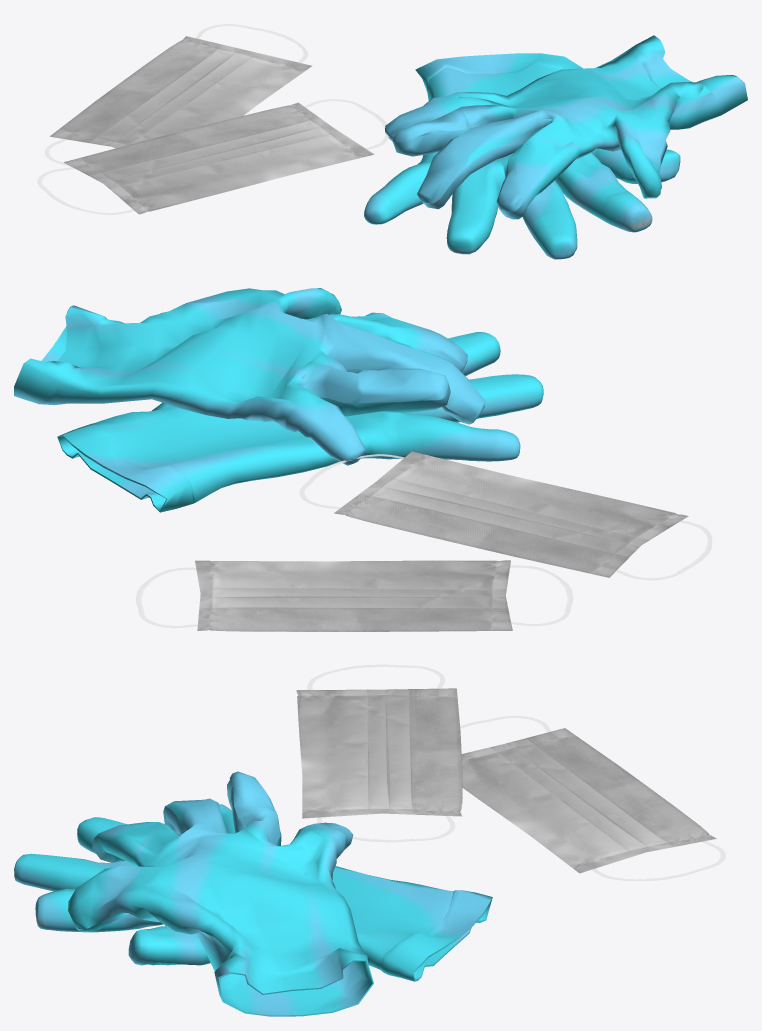
Rendered from ppe.gltf.
3 renders of one model, top to bottom at view 1: azimuth 30°, elevation 25°; view 2: azimuth 150°, elevation 25°; view 3: azimuth 270°, elevation 25°, orthographic. The views are drawn at different scales.
Parts seen in each view (by area): view 1: Gloves2, MedicalMask1:pmedmask, MedicalMask1:pmedmask_MedicalMask1:pmedm_0.001; view 2: Gloves2, MedicalMask1:pmedmask_MedicalMask1:pmedm_0.001, MedicalMask1:pmedmask; view 3: Gloves2, MedicalMask1:pmedmask, MedicalMask1:pmedmask_MedicalMask1:pmedm_0.001.
Part boxes in pixels (bbox=[...]): Gloves2: bbox=[364, 35, 747, 259]; MedicalMask1:pmedmask: bbox=[64, 102, 374, 214]; MedicalMask1:pmedmask_MedicalMask1:pmedm_0.001: bbox=[50, 36, 311, 148]; Gloves2: bbox=[14, 288, 543, 512]; MedicalMask1:pmedmask_MedicalMask1:pmedm_0.001: bbox=[195, 560, 512, 631]; MedicalMask1:pmedmask: bbox=[334, 451, 688, 577]; Gloves2: bbox=[14, 771, 492, 1016]; MedicalMask1:pmedmask: bbox=[296, 688, 462, 818]; MedicalMask1:pmedmask_MedicalMask1:pmedm_0.001: bbox=[461, 728, 716, 873].
Size of the model in its own units: 3.45 by 0.4146 by 3.13.
4 materials, 4 textured.
